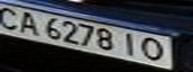2: (57, 19, 81, 46)
6: (39, 16, 63, 42)
7: (75, 22, 96, 50)
8: (93, 25, 118, 53)
A: (12, 9, 45, 36)
C: (0, 3, 27, 30)
I: (118, 30, 145, 57)
O: (136, 35, 172, 63)
